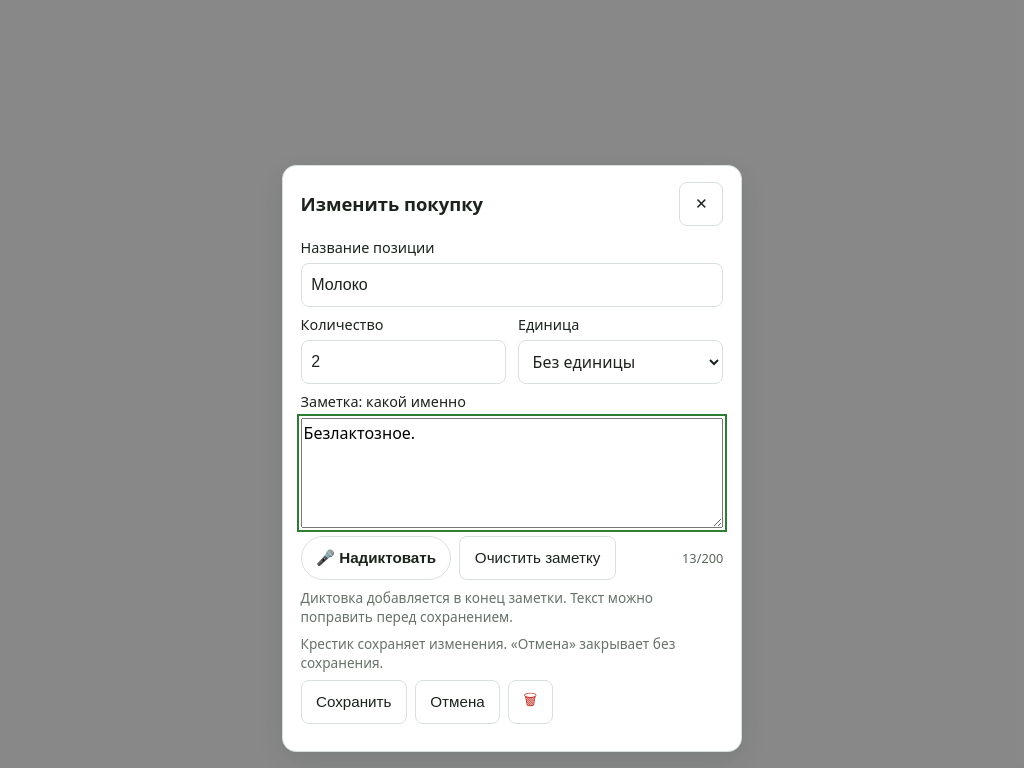
Test: note editing and dictation › keeps the draft on microphone denial and offers typing
Click the button "🎤 Надиктовать".
click(376, 558)  # box [301,536,451,580]
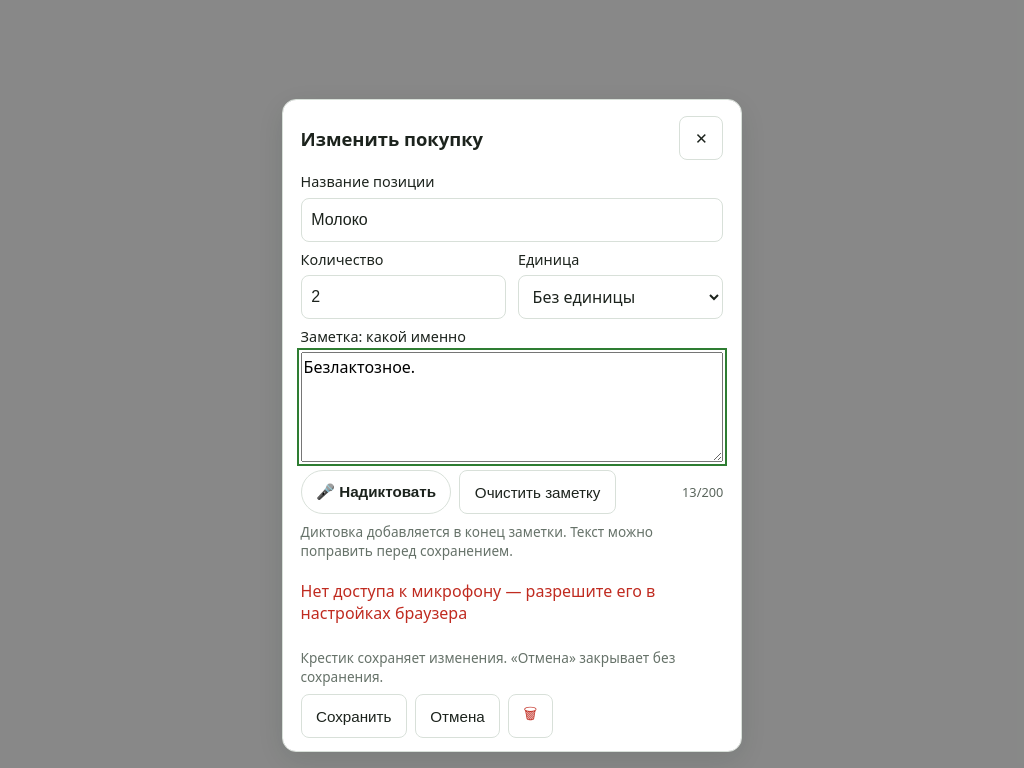
Expected: the text box labelled "Заметка: какой именно" holds "Безлактозное.", [301,352,723,462]
Result: the message shows "Нет доступа к микрофону" at [301,580,655,624]
